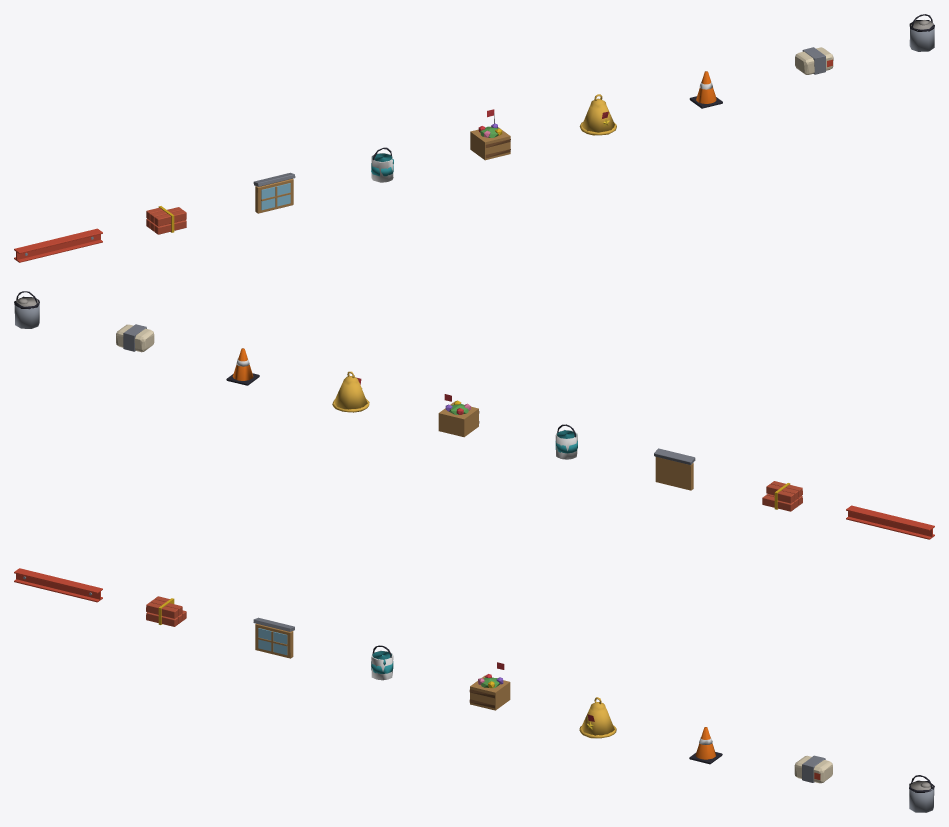
Rendered from pieces-lod1.977d83c2.glb.
3 renders of one model, top to bottom at view 1: azimuth 30°, elevation 25°; view 2: azimuth 150°, elevation 25°; view 3: azimuth 330°, elevation 25°, orthographic.
Visible parts, largest first — view 1: Piece_beam__T_vcol, Piece_panel__T_vcol, Piece_decor__T_vcol, Piece_bell__T_vcol, Piece_brick__T_vcol, Piece_cement__T_vcol, Piece_concrete__T_vcol, Piece_paint__T_vcol, Piece_cone__T_vcol; view 2: Piece_beam__T_vcol, Piece_panel__T_vcol, Piece_decor__T_vcol, Piece_bell__T_vcol, Piece_brick__T_vcol, Piece_cement__T_vcol, Piece_concrete__T_vcol, Piece_paint__T_vcol, Piece_cone__T_vcol; view 3: Piece_beam__T_vcol, Piece_panel__T_vcol, Piece_decor__T_vcol, Piece_bell__T_vcol, Piece_brick__T_vcol, Piece_cement__T_vcol, Piece_concrete__T_vcol, Piece_paint__T_vcol, Piece_cone__T_vcol.
Part boxes in pixels (x1,y1,x2,y2): Piece_beam__T_vcol: [14, 228, 102, 262]; Piece_panel__T_vcol: [253, 172, 295, 213]; Piece_decor__T_vcol: [470, 109, 510, 160]; Piece_bell__T_vcol: [579, 94, 616, 135]; Piece_brick__T_vcol: [146, 206, 186, 234]; Piece_cement__T_vcol: [795, 47, 833, 74]; Piece_concrete__T_vcol: [909, 14, 934, 51]; Piece_paint__T_vcol: [371, 147, 393, 182]; Piece_cone__T_vcol: [689, 71, 722, 108]; Piece_beam__T_vcol: [846, 505, 934, 539]; Piece_panel__T_vcol: [654, 448, 695, 490]; Piece_decor__T_vcol: [438, 394, 479, 437]; Piece_bell__T_vcol: [332, 371, 369, 412]; Piece_brick__T_vcol: [762, 481, 802, 511]; Piece_cement__T_vcol: [116, 324, 154, 352]; Piece_concrete__T_vcol: [14, 291, 39, 328]; Piece_paint__T_vcol: [555, 424, 577, 459]; Piece_cone__T_vcol: [226, 348, 259, 385]; Piece_beam__T_vcol: [14, 568, 102, 602]; Piece_panel__T_vcol: [253, 617, 294, 658]; Piece_decor__T_vcol: [469, 662, 510, 710]; Piece_bell__T_vcol: [579, 697, 616, 738]; Piece_brick__T_vcol: [146, 596, 186, 626]; Piece_cement__T_vcol: [794, 755, 832, 783]; Piece_concrete__T_vcol: [909, 775, 934, 812]; Piece_paint__T_vcol: [371, 645, 393, 680]; Piece_cone__T_vcol: [689, 727, 722, 764].
Bounding box in the file's own units: 15.28 × 0.6996 × 0.5378.
